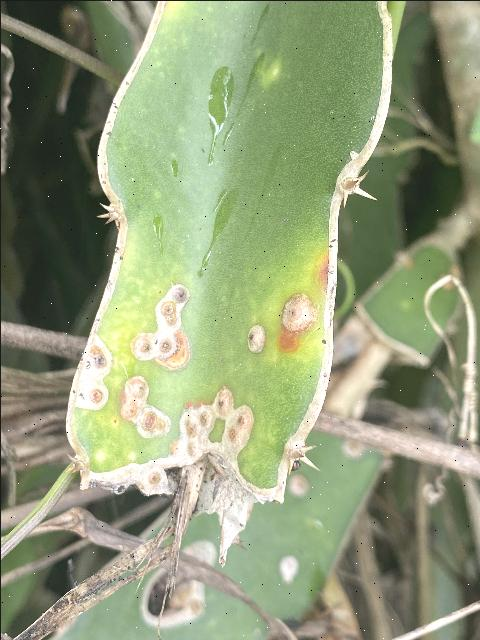stemcanker: (54, 282, 308, 492)
